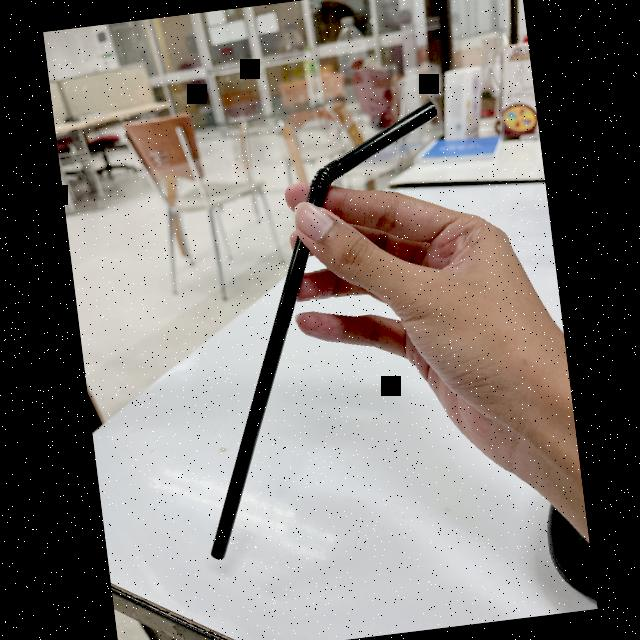straw: (159, 101, 496, 564)
